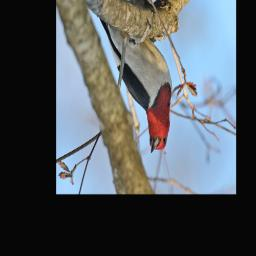Woodpecker: (94, 1, 176, 161)
